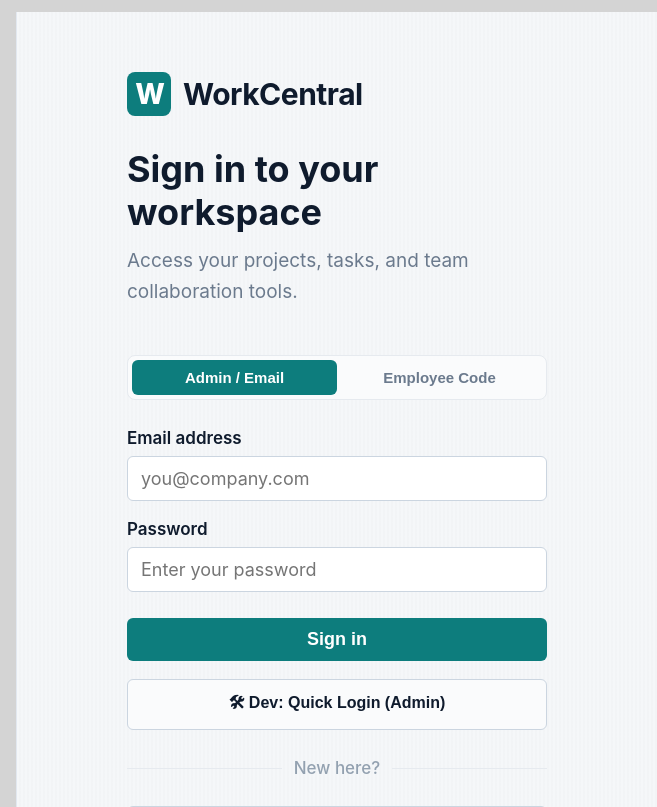
Test: Login › shows loading state while submitting
The image size is (657, 807).
Step 1. Type "test@test.com" into the field with placeholder "you@company.com" → (337, 479), box [127,456,547,501]
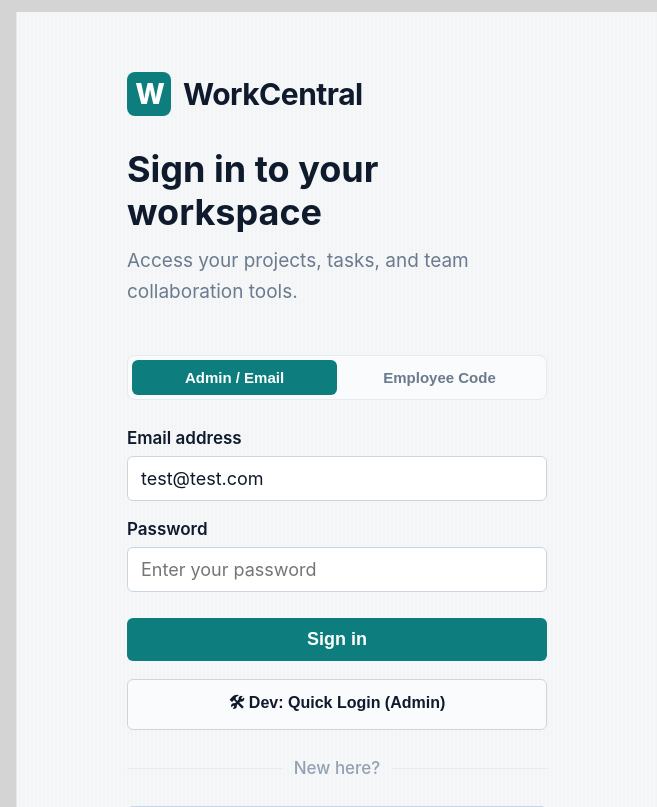
Step 2. Type "pass" into the password field with placeholder "Enter your password" → (337, 570), box [127,547,547,592]
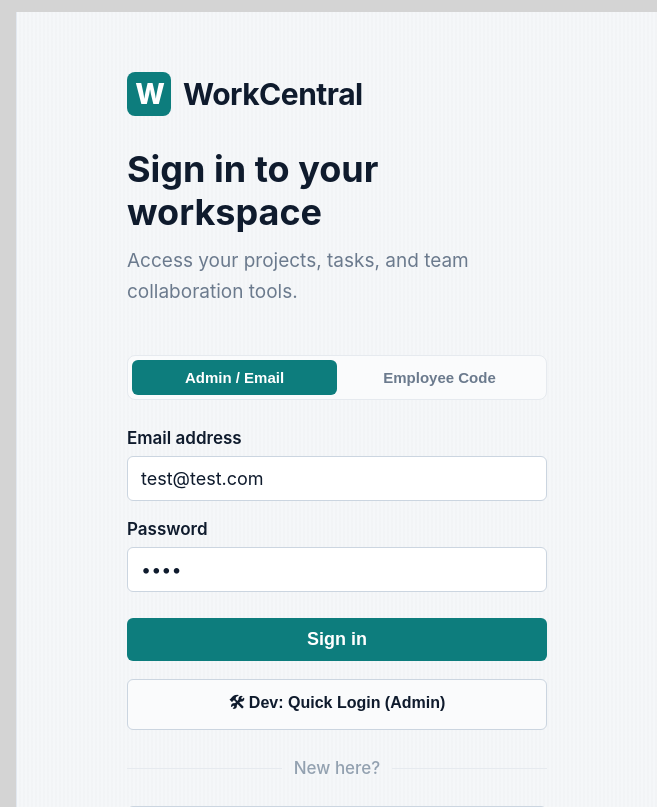
Step 3. Click the button "Sign in" → (337, 640), box [127,618,547,661]
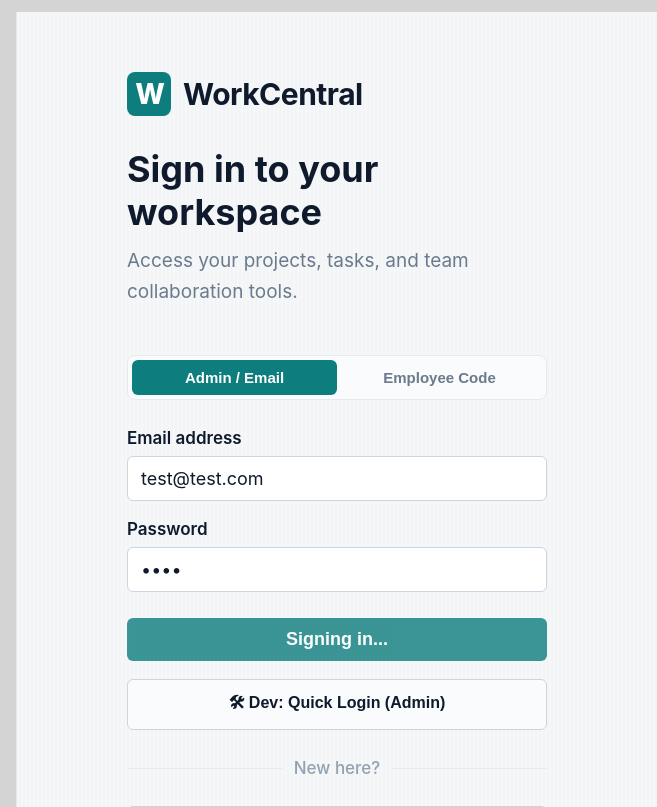
Expected: the button "Signing in..." is disabled, [127,618,547,661]
